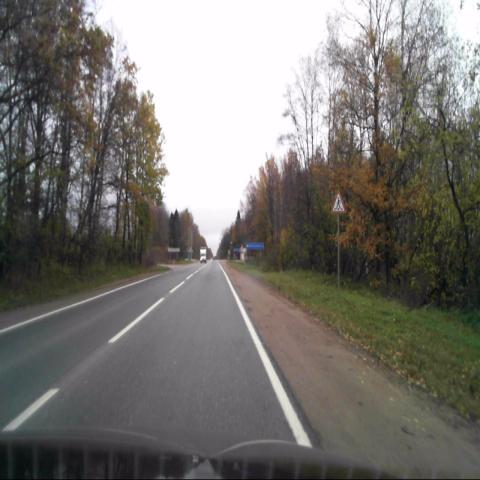1_22: (331, 190, 345, 213)
